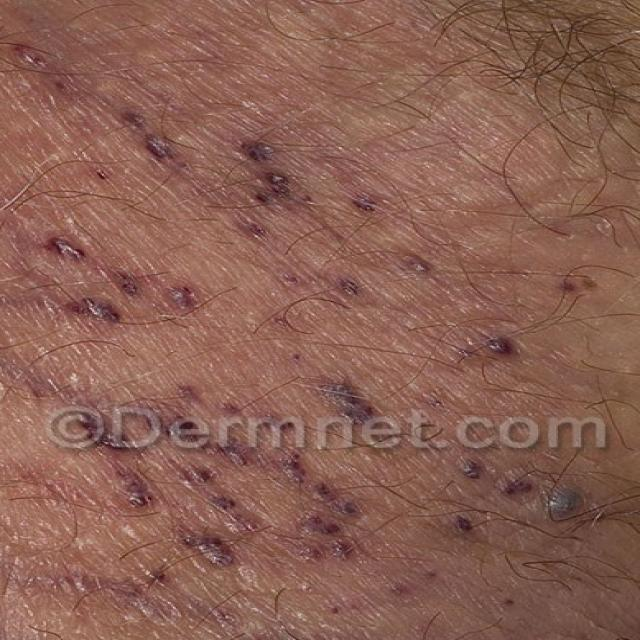Vascular Tumors: (0, 60, 640, 640)
